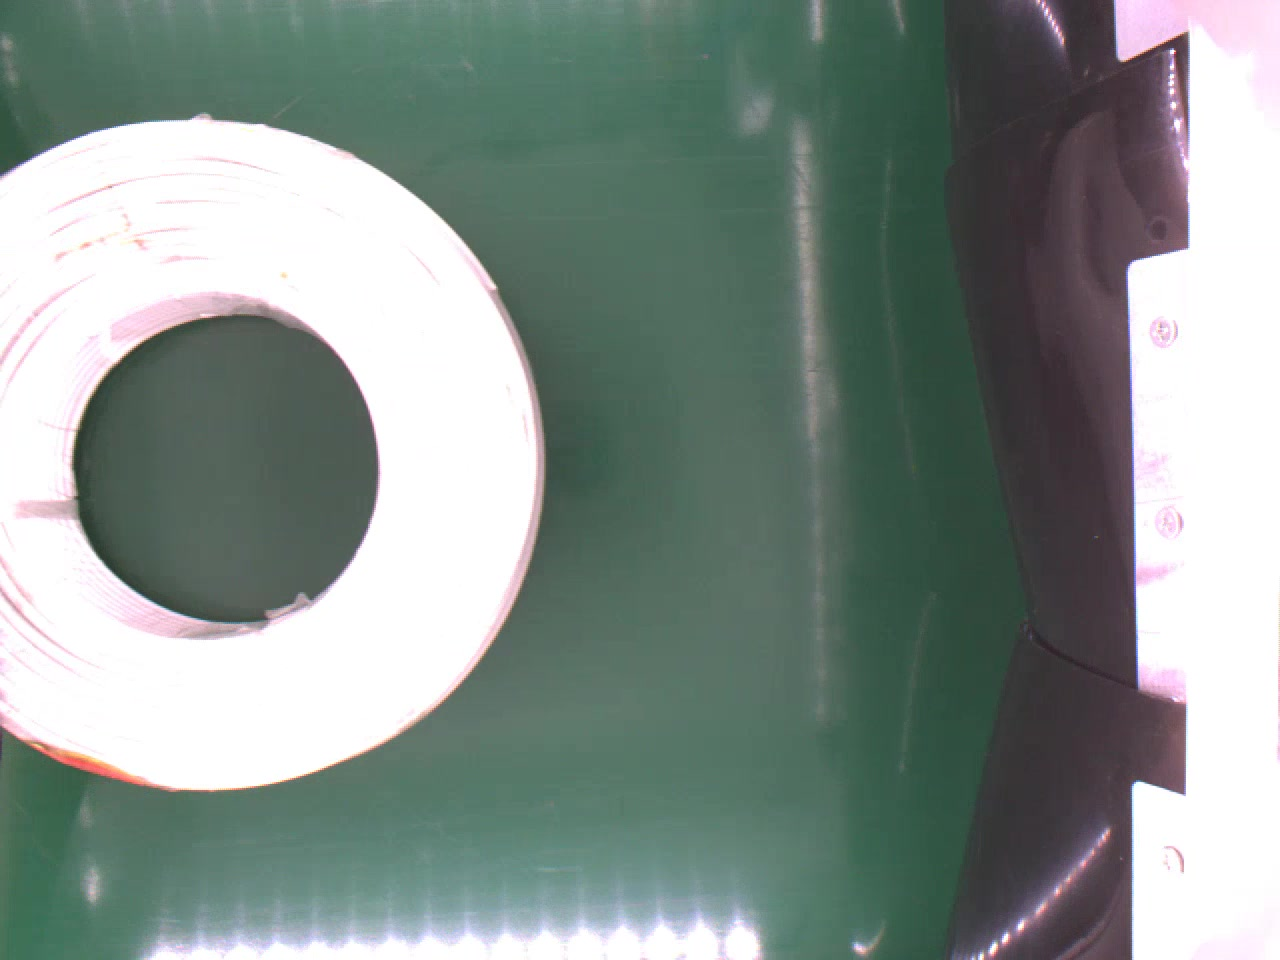white: (0, 116, 542, 795)
